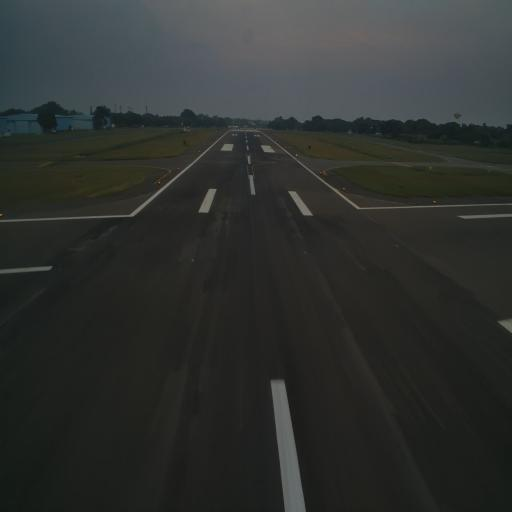on: (0, 206, 4, 224), (431, 196, 437, 205), (341, 185, 346, 194), (157, 178, 160, 186)
